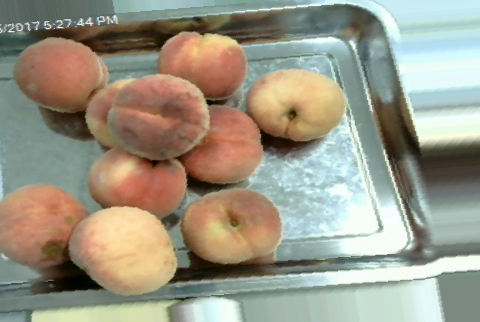Peach: (67, 203, 178, 296), (109, 74, 210, 159), (180, 187, 283, 265), (244, 67, 348, 144), (0, 182, 88, 272), (15, 36, 107, 116), (175, 102, 263, 182), (88, 148, 187, 214), (160, 29, 248, 98)
